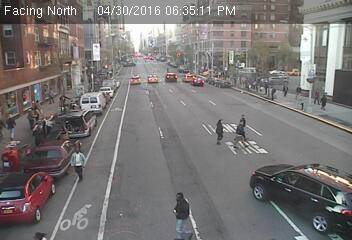neg: (116, 65, 137, 92), (146, 132, 166, 158), (33, 27, 53, 53), (308, 16, 327, 41), (113, 146, 131, 170), (200, 61, 218, 85), (246, 173, 264, 196), (160, 70, 177, 93), (38, 190, 55, 213), (319, 183, 336, 205), (9, 49, 25, 71), (286, 133, 302, 155), (189, 155, 203, 173), (302, 169, 315, 187), (87, 31, 99, 47), (183, 37, 195, 53), (153, 44, 165, 60), (125, 34, 135, 48), (223, 17, 230, 25)
pos: (163, 188, 201, 237), (67, 148, 88, 176), (208, 117, 228, 143), (230, 120, 250, 146), (2, 113, 21, 138), (235, 113, 253, 137), (24, 106, 40, 127), (31, 100, 46, 120), (319, 93, 332, 110), (294, 83, 307, 100), (280, 82, 292, 98), (46, 87, 58, 102), (310, 90, 321, 105), (269, 86, 280, 101), (262, 82, 272, 95)
